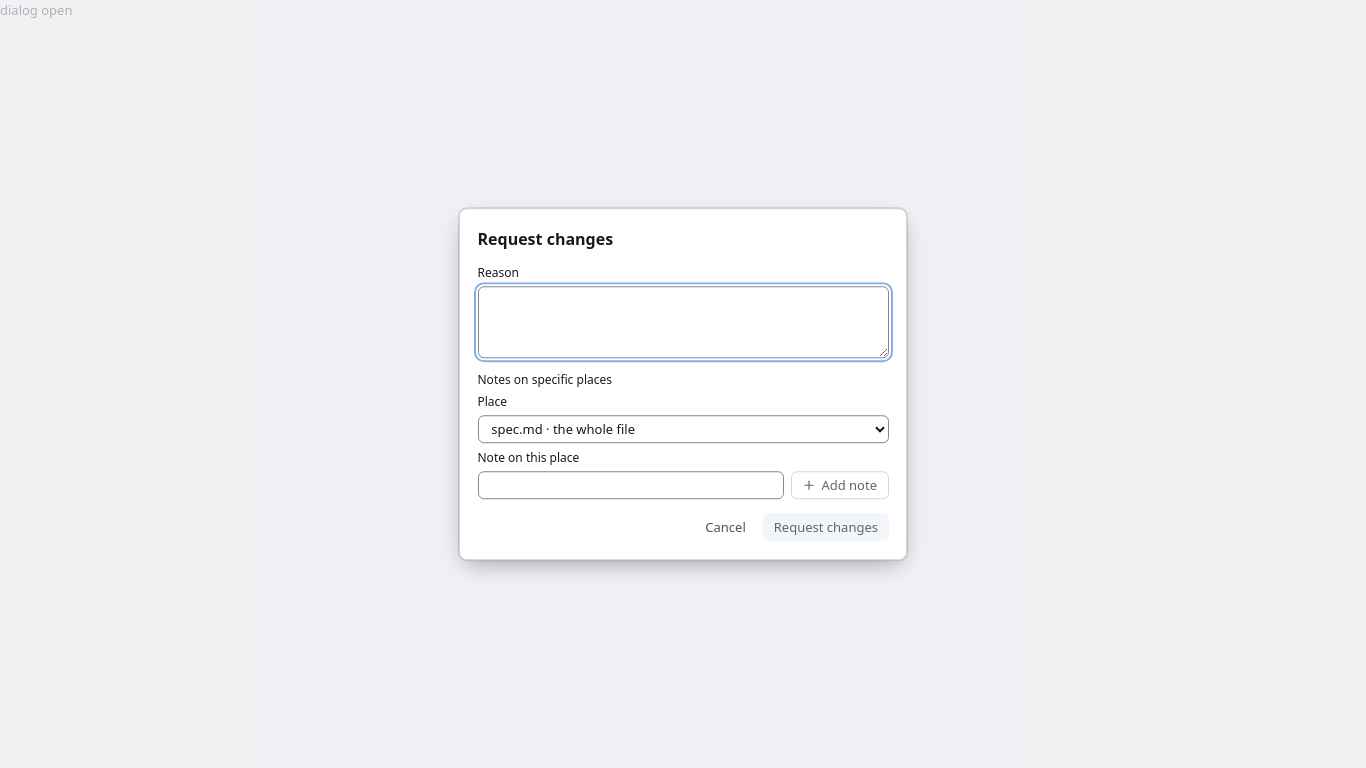
Test: the stage a rejection is of › Request changes: a 409 keeps the dialog and the typed text and shows the server's own sentence
This screenshot has width=1366, height=768.
Type "too broad" into the text box labelled "Reason" at (683, 322), box x1=478 y1=286 x2=888 y2=358
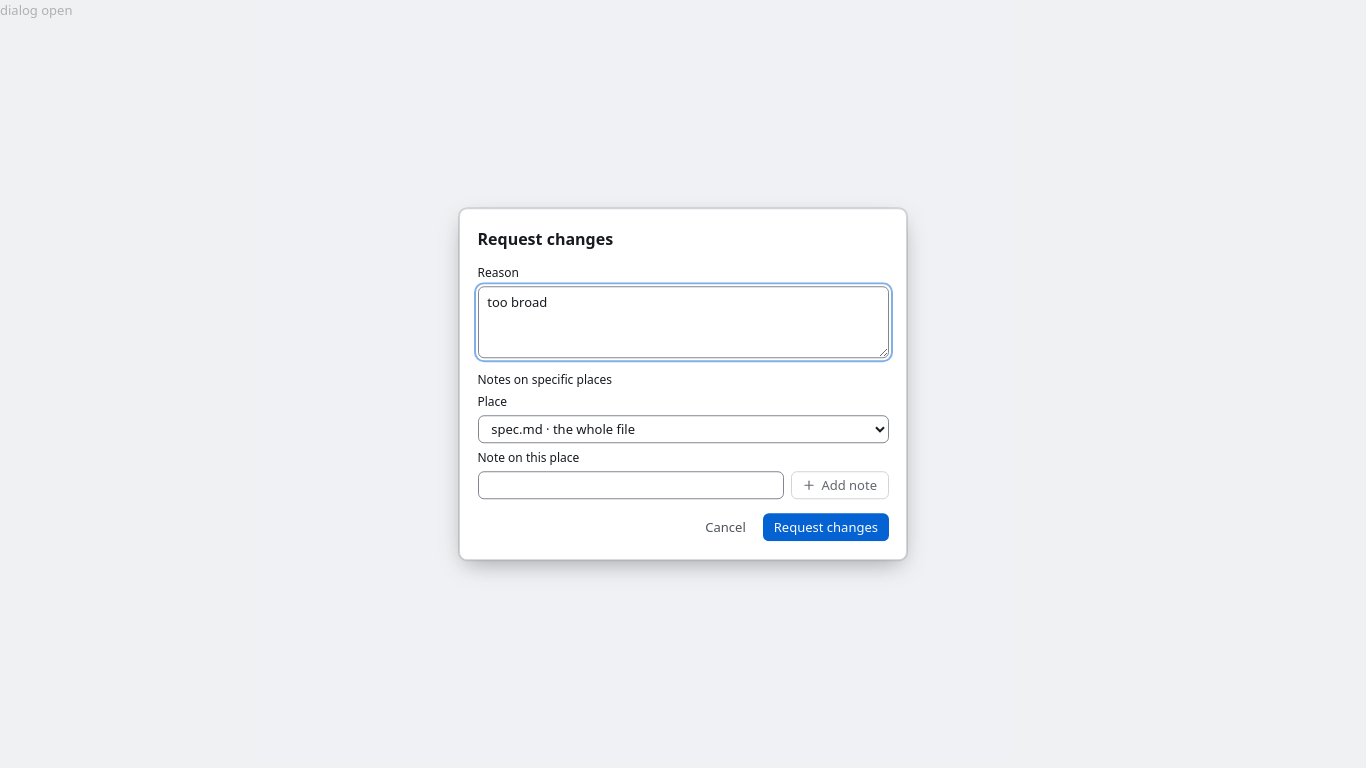
Click the button "Request changes" at (826, 527), box x1=763 y1=513 x2=888 y2=541
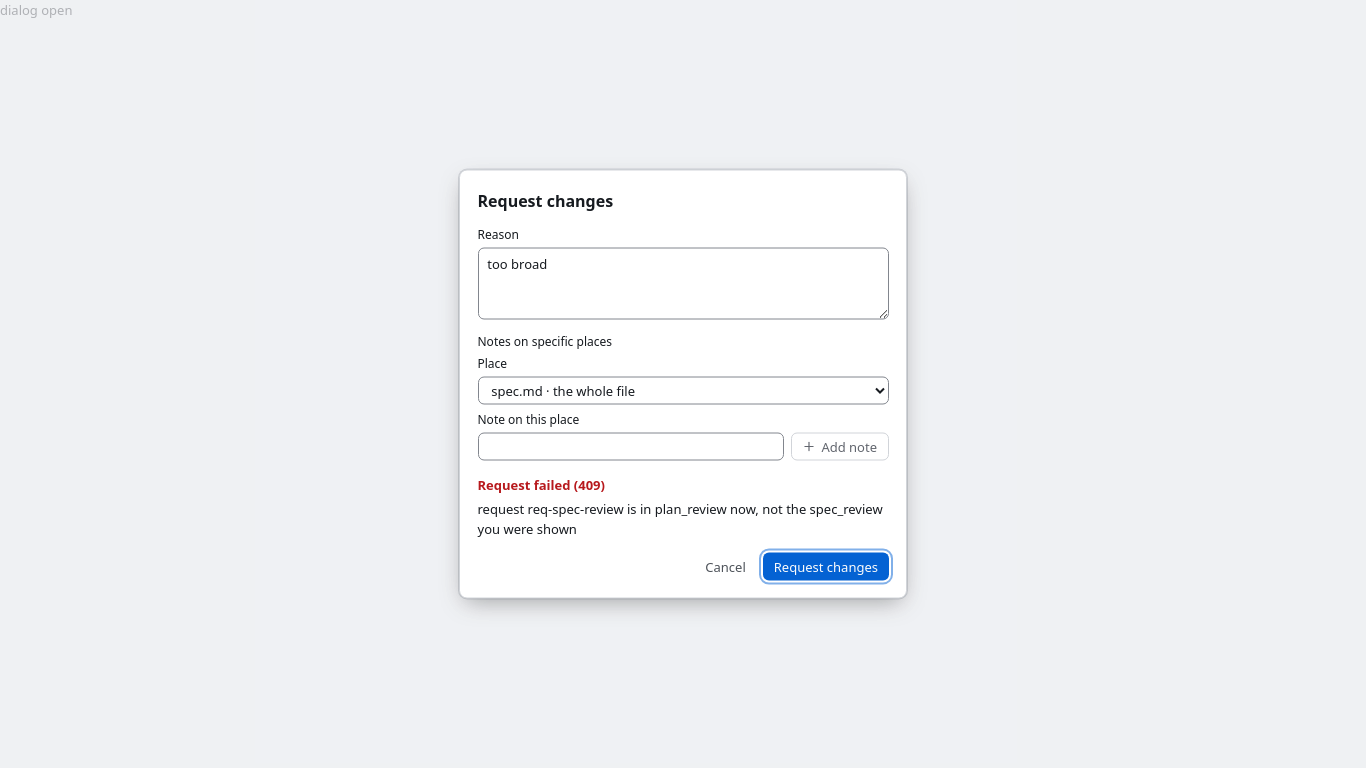
expect the text "dialog open" is shown: met, box x1=0 y1=1 x2=72 y2=19
expect the message shows "request req-spec-review is in plan_review now, not the spec_review you were shown": met, box x1=478 y1=499 x2=883 y2=537
